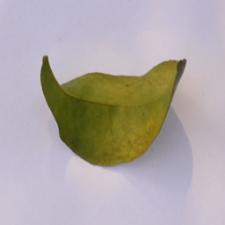Greening: (53, 69, 163, 163)
